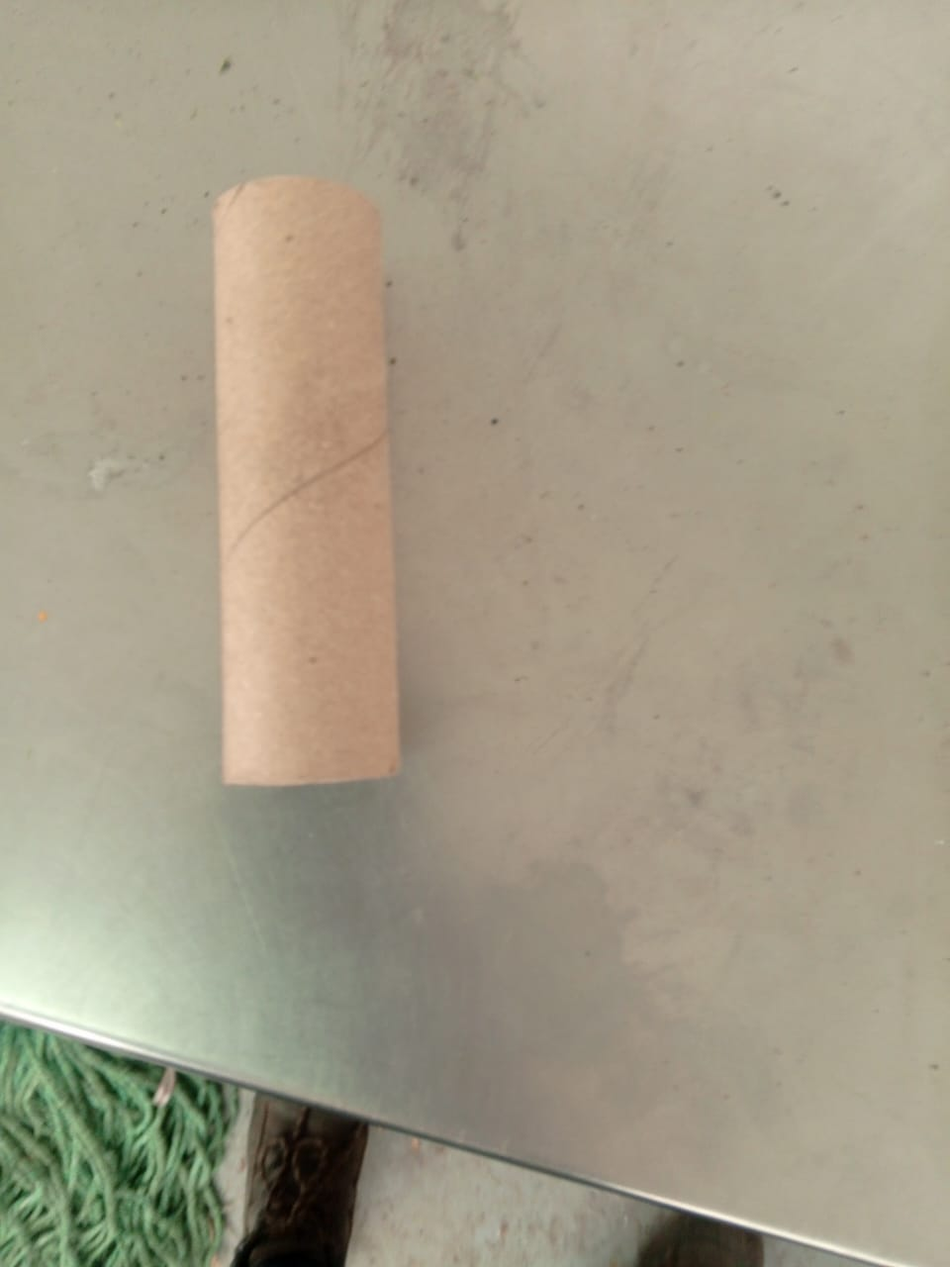Carton: (210, 177, 397, 790)
